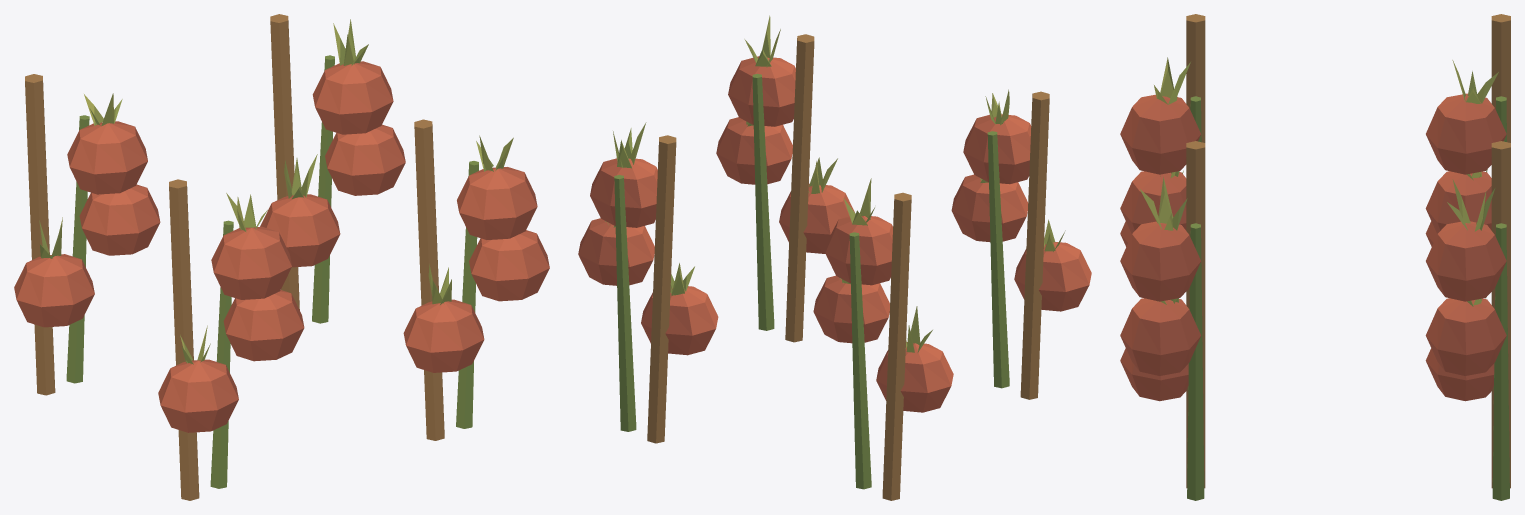
The model's file is crop_tomato.glb.
The picture shows the model from 3 angles, left to right: view 1: azimuth 30°, elevation 25°; view 2: azimuth 150°, elevation 25°; view 3: azimuth 270°, elevation 25°; orthographic projection. The views are drawn at different scales.
Visible parts, largest first — view 1: Reife Tomaten am Rankstock; view 2: Reife Tomaten am Rankstock; view 3: Reife Tomaten am Rankstock.
Part boxes in pixels (box(x1,y1,x2,y2)): Reife Tomaten am Rankstock: box(14, 14, 549, 500); Reife Tomaten am Rankstock: box(578, 15, 1091, 500); Reife Tomaten am Rankstock: box(1120, 14, 1510, 500).
Size of the model in its own units: 0.946 by 0.7388 by 0.7801.
